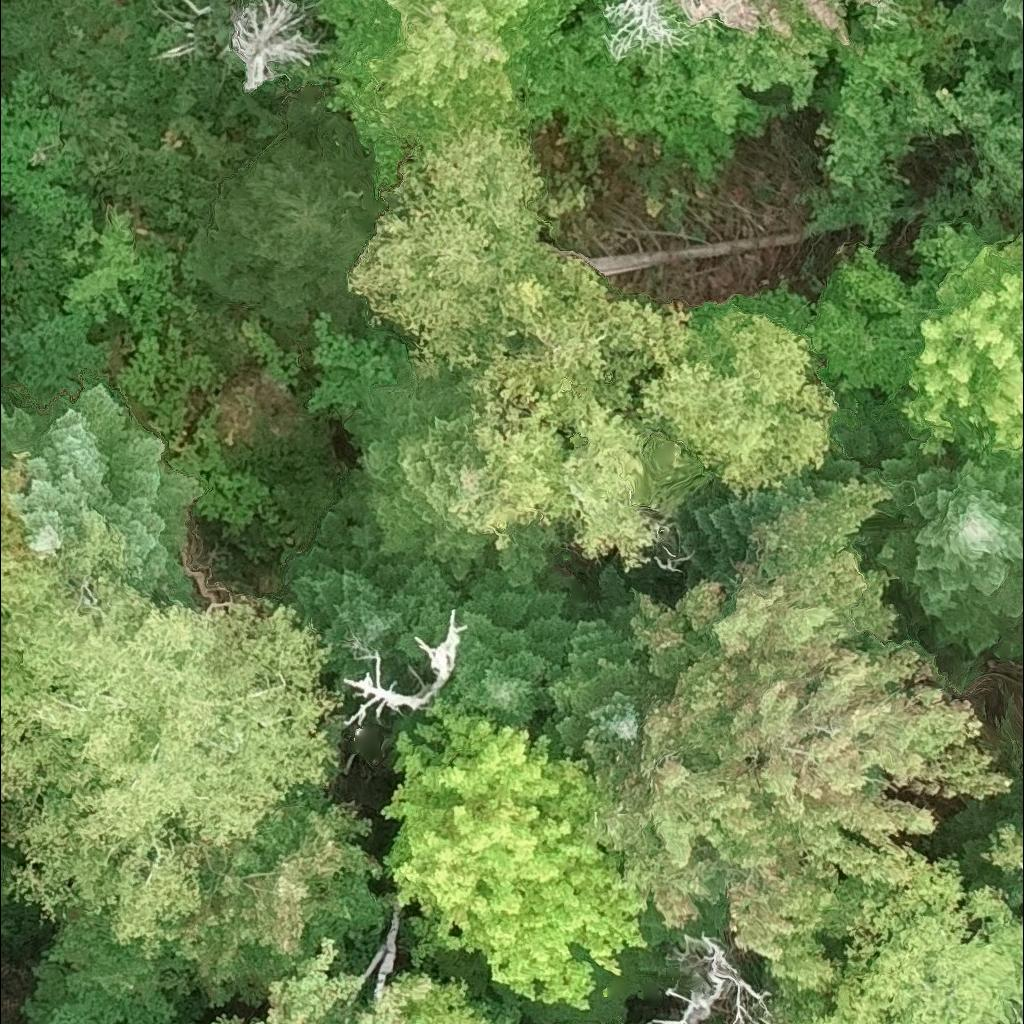crown: (586, 475, 1009, 986), (0, 511, 344, 957), (551, 0, 1023, 244), (21, 783, 385, 1023), (382, 701, 643, 1009), (446, 260, 703, 566), (752, 220, 1023, 482), (349, 125, 584, 380), (317, 0, 585, 203), (344, 364, 553, 596), (0, 386, 203, 604), (197, 101, 385, 322), (286, 487, 470, 699), (640, 304, 839, 499), (815, 847, 1023, 1023), (877, 442, 1023, 650), (396, 568, 576, 730), (537, 599, 679, 797), (215, 939, 429, 1023), (639, 933, 782, 1023), (347, 615, 458, 722), (600, 0, 780, 61), (0, 458, 71, 579), (228, 0, 320, 91), (753, 956, 837, 1023), (402, 979, 519, 1023), (807, 0, 887, 52), (969, 0, 1023, 68), (988, 826, 1023, 878), (0, 893, 0, 902)
